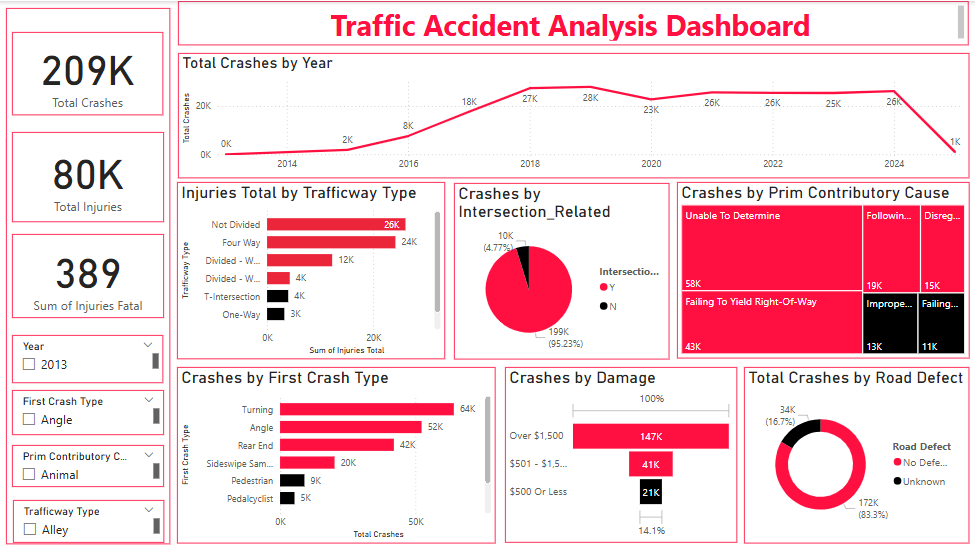

What the dashboard file says about the page in this screenshot:
{"tool":"powerbi","page":{"name":"Dashboard","canvas":[1280,720],"ordinal":1},"visuals":[{"type":"cardVisual","fields":{"Data":["traffic_accidents.Total Injuries"]},"box":[9.6,180.3,199.6,108.7],"z":0},{"type":"textbox","box":[9.2,9.2,214.7,701.7],"z":1000},{"type":"textbox","box":[234.3,0,1035.5,57.6],"z":2000},{"type":"clusteredBarChart","title":" Injuries Total by Trafficway Type","fields":{"Category":["traffic_accidents.Trafficway Type"],"Y":["Sum(traffic_accidents.Injuries Total)"]},"box":[233.6,236.6,351.2,232.2],"z":3000},{"type":"donutChart","fields":{"Y":["traffic_accidents.Total Crashes"],"Category":["traffic_accidents.Road Defect"]},"box":[975.8,479,294.5,231.2],"z":4000},{"type":"barChart","title":" Crashes by First Crash Type","fields":{"Category":["traffic_accidents.First Crash Type"],"Y":["traffic_accidents.Total Crashes"]},"box":[233.6,479,417.3,230.7],"z":5000},{"type":"card","fields":{"Values":["traffic_accidents.Total Crashes"]},"box":[17,40.6,197.7,108.7],"z":6000},{"type":"treemap","title":"Crashes by Prim Contributory Cause","fields":{"Group":["traffic_accidents.Prim Contributory Cause"],"Values":["traffic_accidents.Total Crashes"]},"box":[887.2,236.8,383,231.2],"z":7000},{"type":"funnel","title":" Crashes by Damage","fields":{"Category":["traffic_accidents.Damage"],"Y":["traffic_accidents.Total Crashes"]},"box":[662,479,304.2,229.8],"z":8000},{"type":"pieChart","title":"Crashes by Intersection_Related","fields":{"Category":["traffic_accidents.Intersection_Related"],"Y":["traffic_accidents.Total Crashes"]},"box":[595.1,238,282.1,230.7],"z":9000},{"type":"card","fields":{"Values":["Sum(traffic_accidents.Injuries Fatal)"]},"box":[17,305,199,110],"z":10000},{"type":"slicer","fields":{"Values":["traffic_accidents.First Crash Type"]},"box":[17,509.2,199,58.9],"z":11000},{"type":"slicer","fields":{"Values":["traffic_accidents.Prim Contributory Cause"]},"box":[17,581.2,199,55],"z":12000},{"type":"slicer","fields":{"Values":["traffic_accidents.Trafficway Type"]},"box":[18.3,653.2,197.7,56.3],"z":13000},{"type":"card","fields":{"Values":["traffic_accidents.Total Injuries"]},"box":[17,171.5,199,117.8],"z":14000},{"type":"lineChart","fields":{"Y":["traffic_accidents.Total Crashes"],"Category":["traffic_accidents.Crash Date.Variation.Date Hierarchy.Year"]},"box":[234,67.4,1036.4,163.8],"z":15000},{"type":"slicer","fields":{"Values":["traffic_accidents.Crash Date.Variation.Date Hierarchy.Year"]},"box":[17,437.2,197.7,62.8],"z":16000}]}

Visuals, with their boxes in screenshot pixels (x1, y1, x2, y2), scaled from the page's 1280x720 canvas onto the 975x550 screenshot:
cardVisual - traffic_accidents.Total Injuries: Rect(7, 138, 159, 221)
textbox: Rect(7, 7, 171, 543)
textbox: Rect(178, 0, 967, 44)
" Injuries Total by Trafficway Type" clusteredBarChart: Rect(178, 181, 445, 358)
donutChart - traffic_accidents.Total Crashes x traffic_accidents.Road Defect: Rect(743, 366, 968, 543)
" Crashes by First Crash Type" barChart: Rect(178, 366, 496, 542)
card - traffic_accidents.Total Crashes: Rect(13, 31, 164, 114)
"Crashes by Prim Contributory Cause" treemap: Rect(676, 181, 968, 358)
" Crashes by Damage" funnel: Rect(504, 366, 736, 541)
"Crashes by Intersection_Related" pieChart: Rect(453, 182, 668, 358)
card - Sum(traffic_accidents.Injuries Fatal): Rect(13, 233, 165, 317)
slicer - traffic_accidents.First Crash Type: Rect(13, 389, 165, 434)
slicer - traffic_accidents.Prim Contributory Cause: Rect(13, 444, 165, 486)
slicer - traffic_accidents.Trafficway Type: Rect(14, 499, 165, 542)
card - traffic_accidents.Total Injuries: Rect(13, 131, 165, 221)
lineChart - traffic_accidents.Total Crashes x traffic_accidents.Crash Date.Variation.Date Hierarchy.Year: Rect(178, 51, 968, 177)
slicer - traffic_accidents.Crash Date.Variation.Date Hierarchy.Year: Rect(13, 334, 164, 382)
